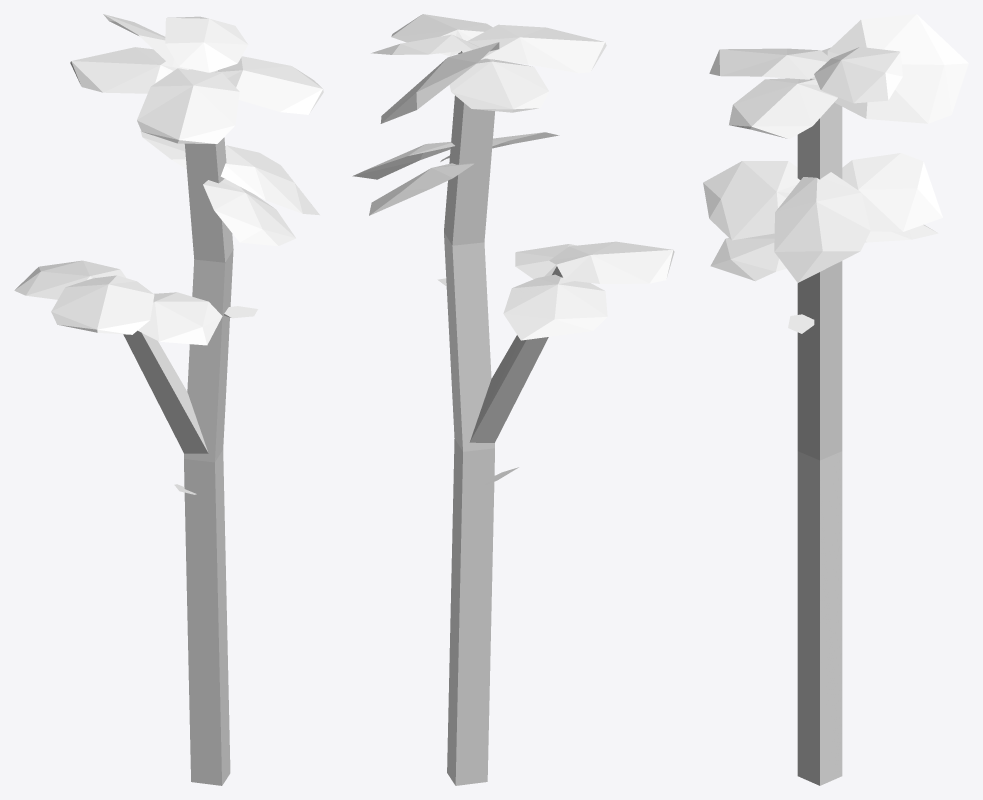
Rendered from Crop_Potato_STAGE_2_01.glb.
3 renders of one model, left to right at view 1: azimuth 30°, elevation 25°; view 2: azimuth 150°, elevation 25°; view 3: azimuth 270°, elevation 25°, orthographic. The views are drawn at different scales.
Parts seen in each view (by area): view 1: Crop_Potato_STAGE_2_01; view 2: Crop_Potato_STAGE_2_01; view 3: Crop_Potato_STAGE_2_01.
Boxes of the visible parts, x1,y1,x2,y2 form: Crop_Potato_STAGE_2_01: [14, 14, 323, 785]; Crop_Potato_STAGE_2_01: [352, 14, 674, 785]; Crop_Potato_STAGE_2_01: [703, 14, 968, 785].
Bounding box in the file's own units: 0.1931 × 0.5048 × 0.1657.
Materials: 1 (1 with a texture image).
